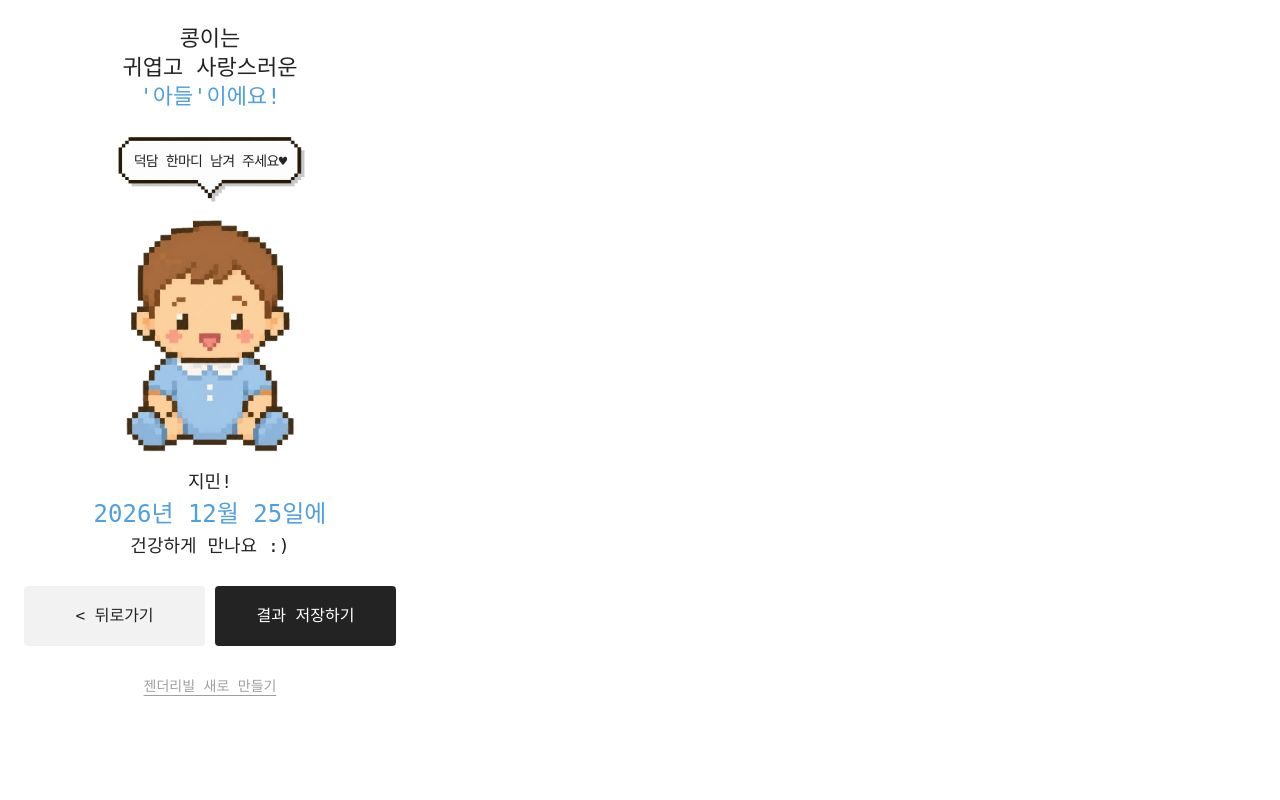
Test: ResultReveal › 댓글이 1건 이상이면 하트 아이콘 클릭 시 바로 목록 뷰로 CommentModal이 열린다
The width and height of the screenshot is (1280, 800).
Click the button with aria-label "덕담 남기기": (210, 172) [112,135,308,208]
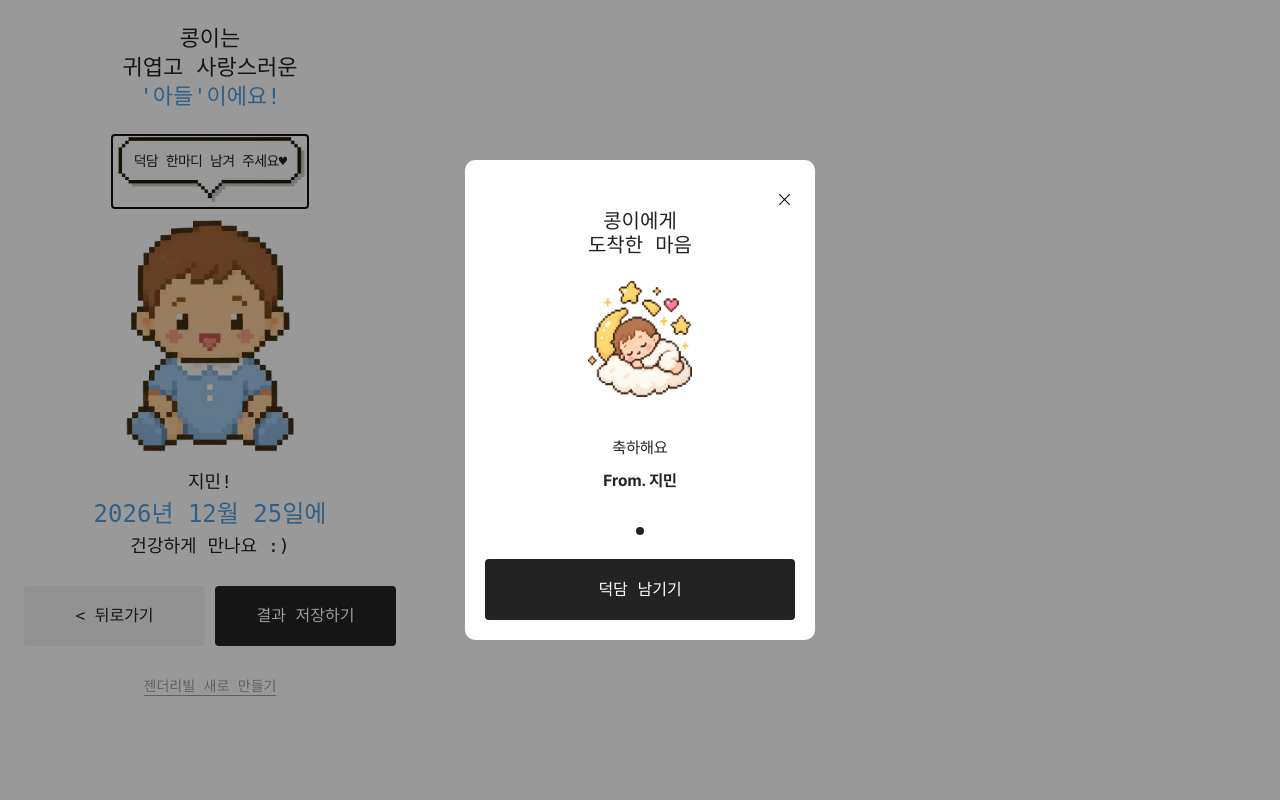
Result: the dialog named "덕담 목록" is shown at [465,160,815,640]
